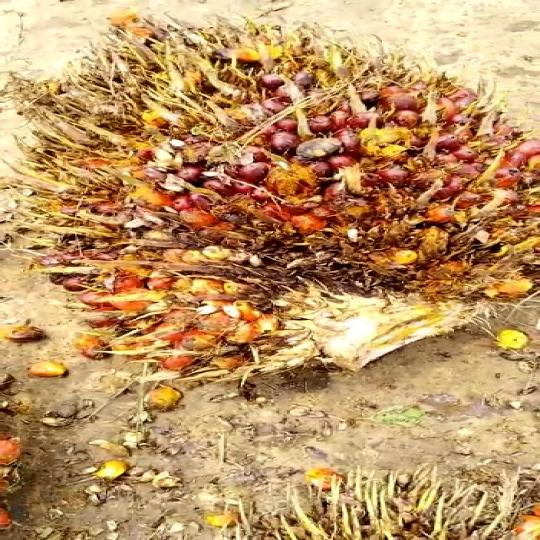masak: (0, 21, 540, 391)
